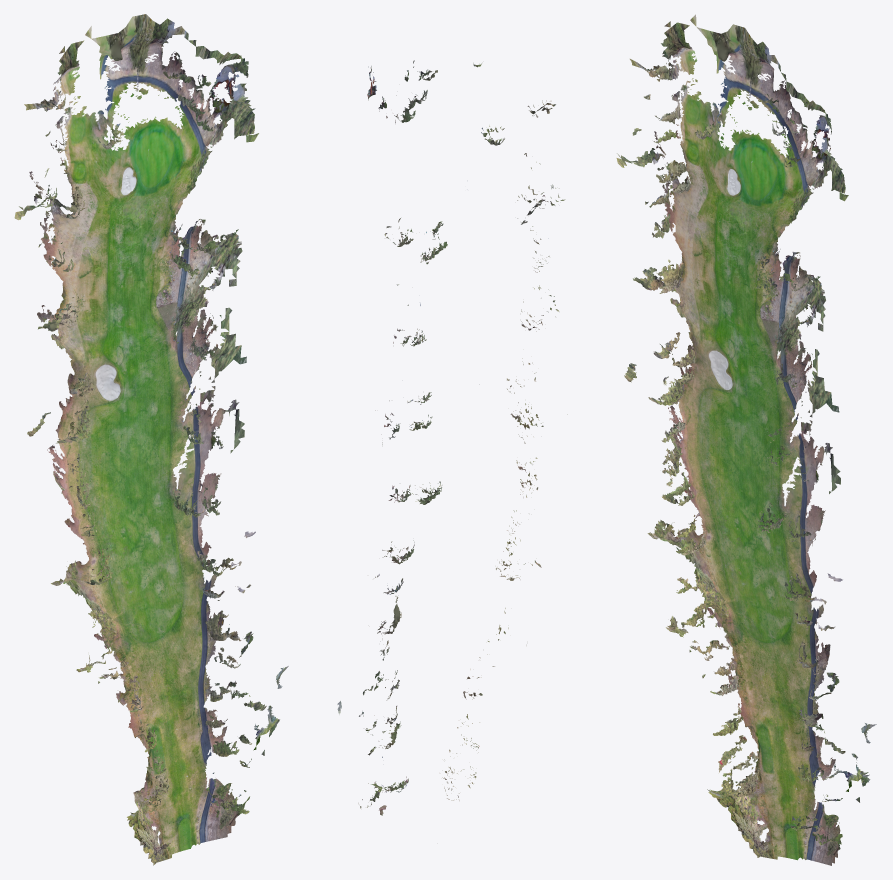
3 renders of one model, left to right at view 1: azimuth 30°, elevation 25°; view 2: azimuth 150°, elevation 25°; view 3: azimuth 330°, elevation 25°, orthographic. The views are drawn at different scales.
Size of the model in its own units: 131 by 396 by 25.35.
36 materials, 36 textured.
